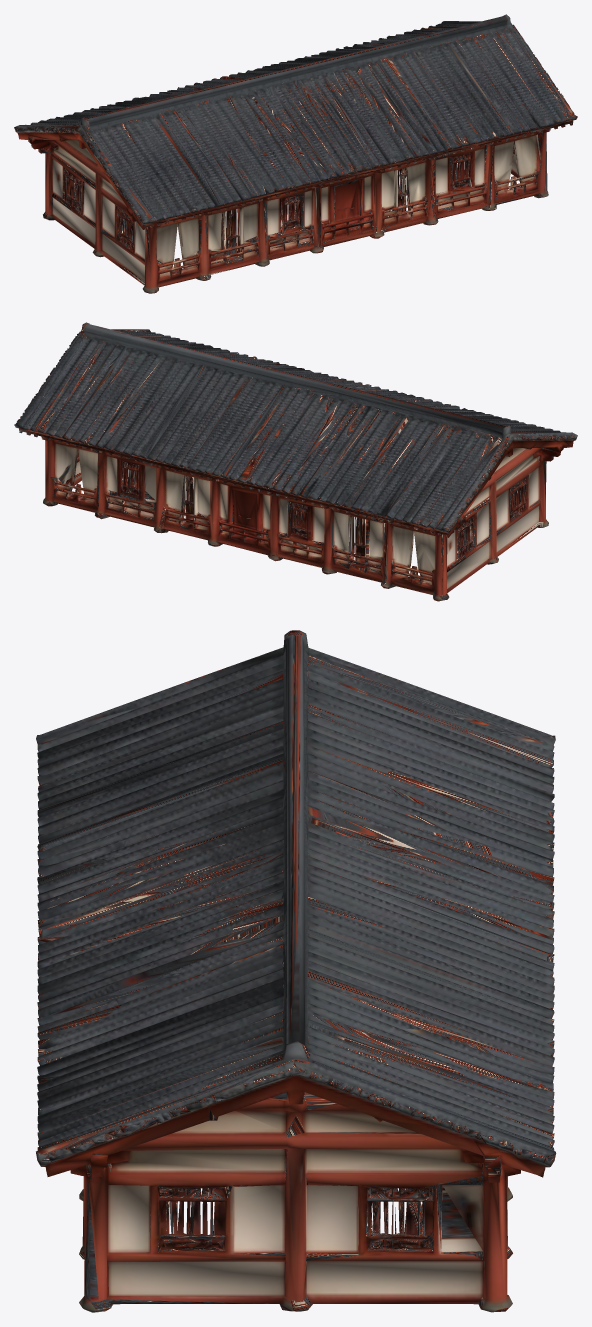
The model's file is changdian_lod0.glb.
3 renders of one model, top to bottom at view 1: azimuth 30°, elevation 25°; view 2: azimuth 150°, elevation 25°; view 3: azimuth 270°, elevation 25°, orthographic. The views are drawn at different scales.
Visible parts, largest first — view 1: node_0; view 2: node_0; view 3: node_0.
Boxes of the visible parts, x1,y1,x2,y2 form: node_0: [14, 14, 577, 293]; node_0: [14, 322, 577, 601]; node_0: [36, 630, 556, 1312].
Bounding box in the file's own units: 26.03 × 7.99 × 13.49.
Materials: 1 (1 with a texture image).
